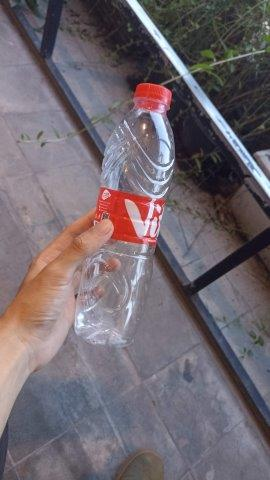botolplastik: (72, 83, 174, 345)
